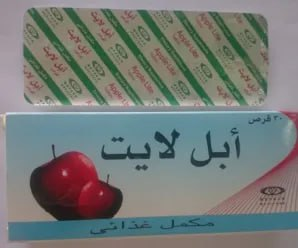Medicine: (3, 109, 298, 247), (23, 5, 270, 109)
